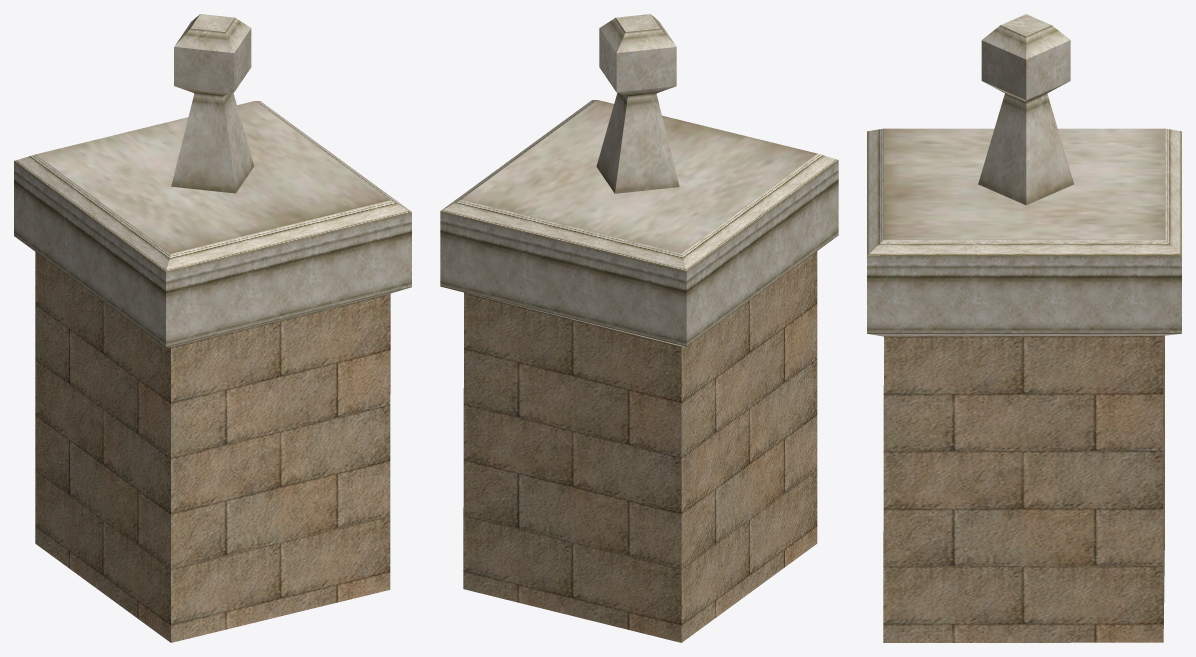
Rendered from thm_nboo_imprv_pillar_s03_l1.fbx.
The picture shows the model from 3 angles, left to right: view 1: azimuth 30°, elevation 25°; view 2: azimuth 150°, elevation 25°; view 3: azimuth 270°, elevation 25°; orthographic projection. The views are drawn at different scales.
Parts seen in each view (by area): view 1: mesh_node; view 2: mesh_node; view 3: mesh_node.
Part boxes in pixels (x1,y1,x2,y2): mesh_node: [14, 14, 411, 642]; mesh_node: [440, 14, 838, 642]; mesh_node: [867, 14, 1181, 642].
Size of the model in its own units: 2.28 by 4.8 by 2.43.
1 material, 1 textured.
